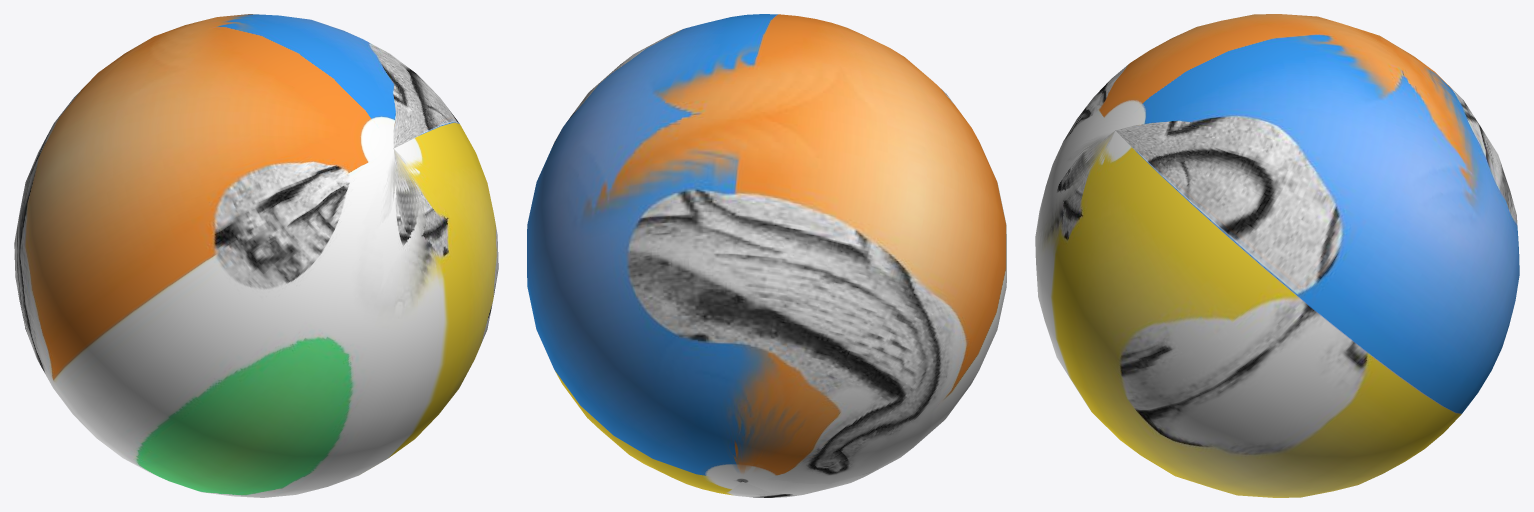
Rendered from ball1.glb.
3 renders of one model, left to right at view 1: azimuth 30°, elevation 25°; view 2: azimuth 150°, elevation 25°; view 3: azimuth 270°, elevation 25°, orthographic.
Visible parts, largest first — view 1: Sphere; view 2: Sphere; view 3: Sphere.
Boxes of the visible parts, x1=… form: Sphere: x1=14, y1=14, x2=498, y2=497; Sphere: x1=527, y1=14, x2=1006, y2=497; Sphere: x1=1035, y1=14, x2=1519, y2=497.
Bounding box in the file's own units: 1.99 × 2 × 1.99.
1 material, 1 textured.
